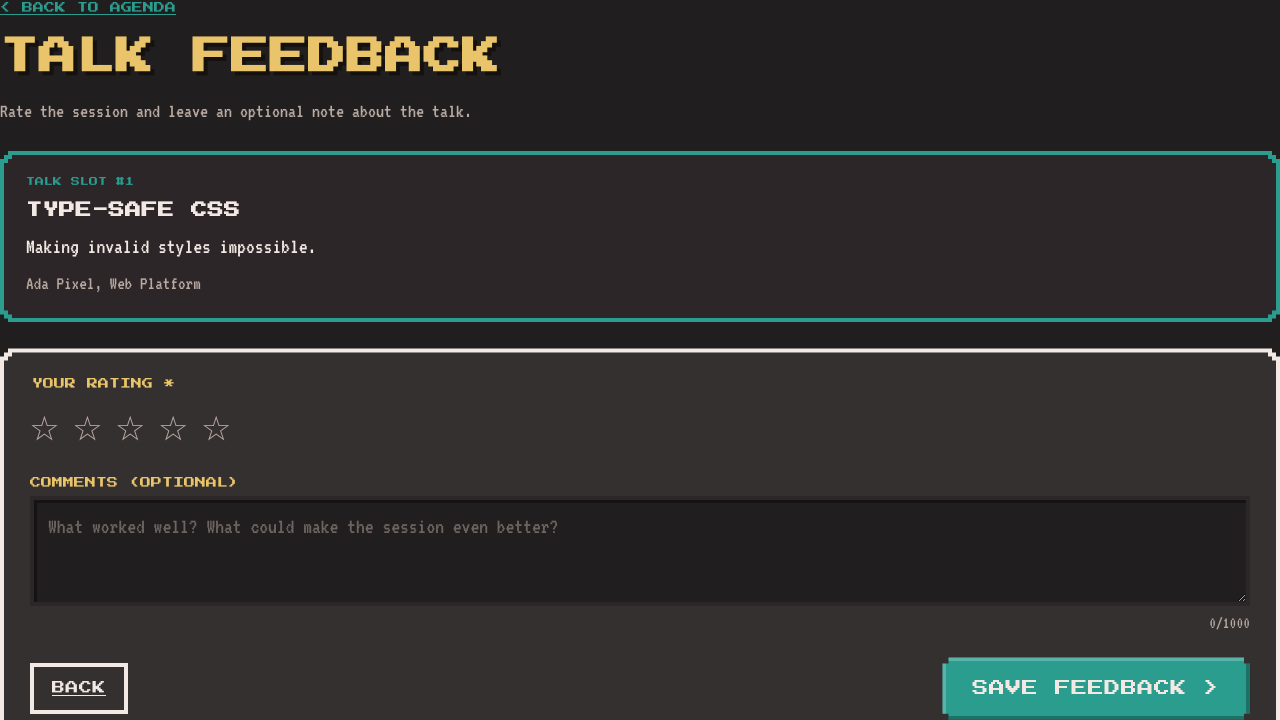
Test: FeedbackForm › shows a generic error and resets pending state when the action throws
Click the radio button named "1 star": (44, 427) top-left (30, 403), bottom-right (59, 451)
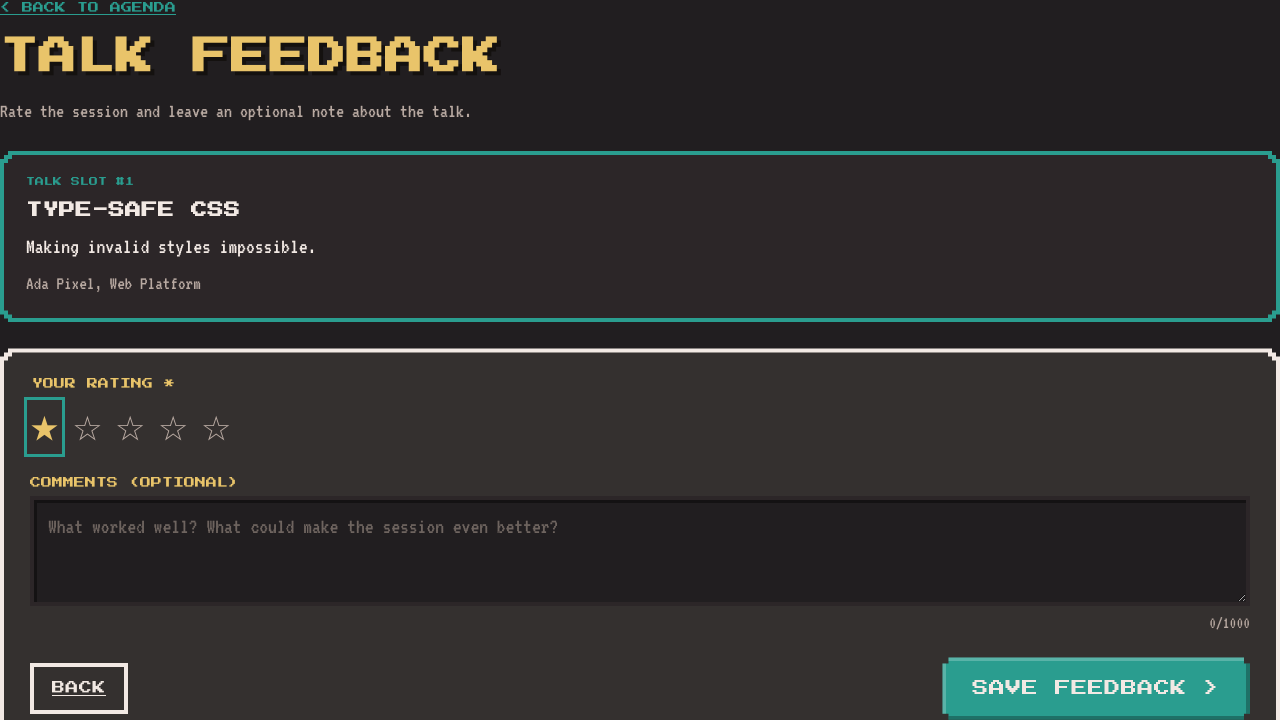
Click the button "SAVE FEEDBACK >": (1096, 689) top-left (942, 657), bottom-right (1250, 719)
(page scrolled)
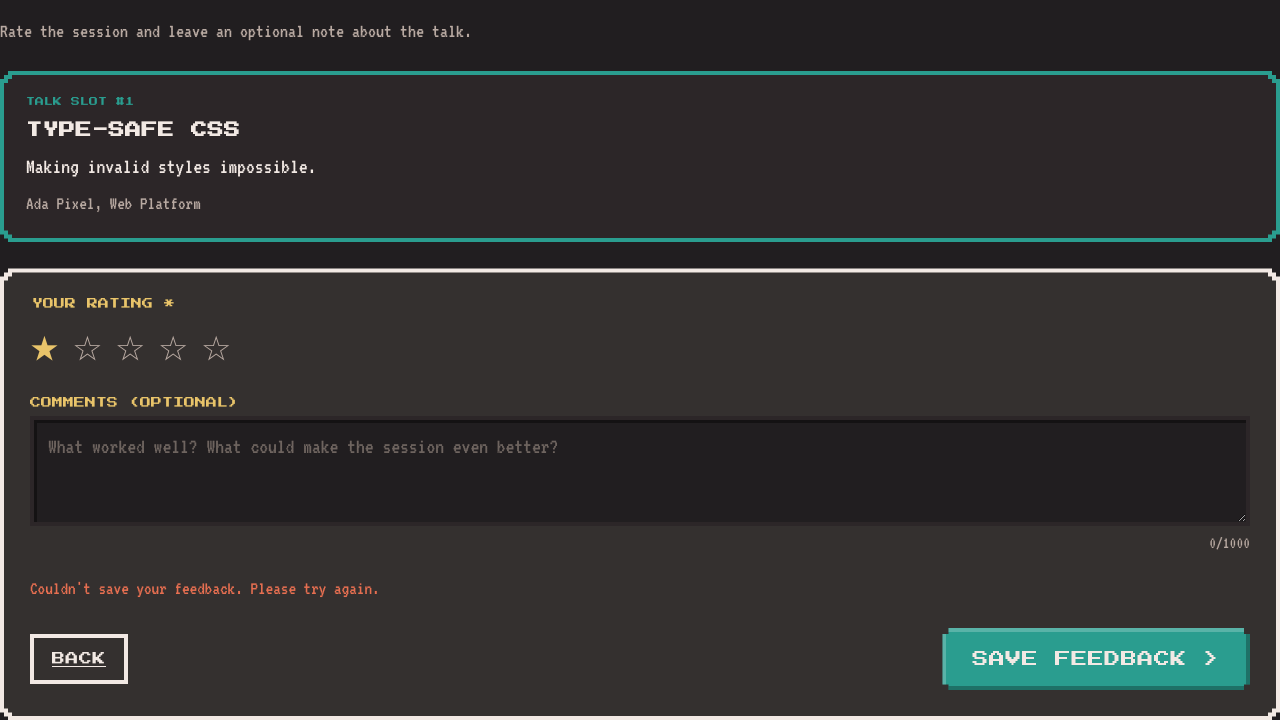
Expected: the button "SAVE FEEDBACK >" is enabled, top-left (942, 628), bottom-right (1250, 690)
Expected: the text "Couldn't save your feedback. Please try again." is shown, top-left (30, 579), bottom-right (380, 598)
